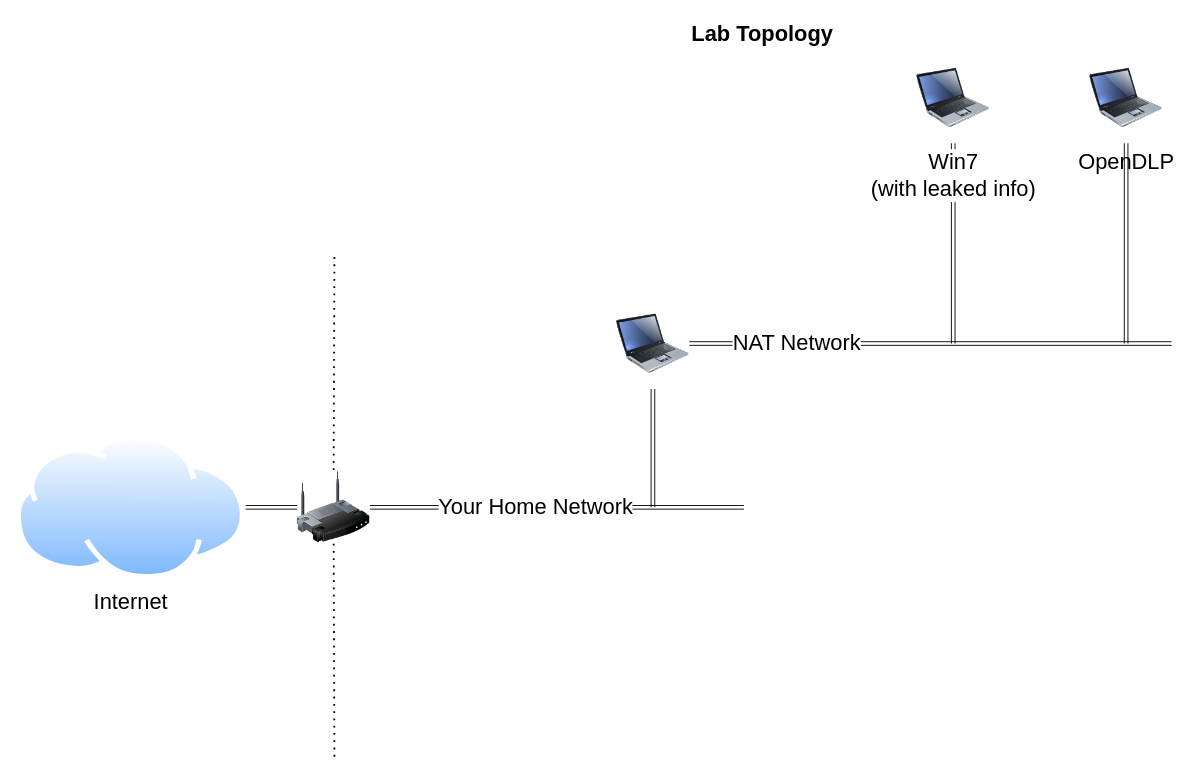
The diagram is 1189 pixels wide and 774 high, and some of its shapes have lost their labels. Here are the shapes that lost their labels. From the top down, the centre of each, then its label:
At (652,343): "Host Machine".
At (333,506): "Your Router".
